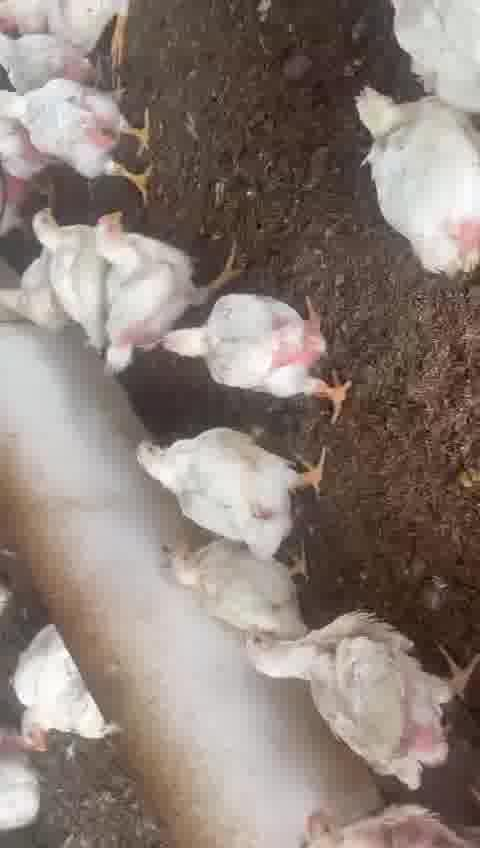AbNormal: (156, 531, 321, 636), (289, 794, 480, 848)
Normal: (244, 616, 480, 776), (346, 83, 480, 280), (134, 420, 339, 547), (165, 306, 357, 420), (94, 207, 215, 376), (0, 83, 163, 195), (27, 204, 124, 324)
